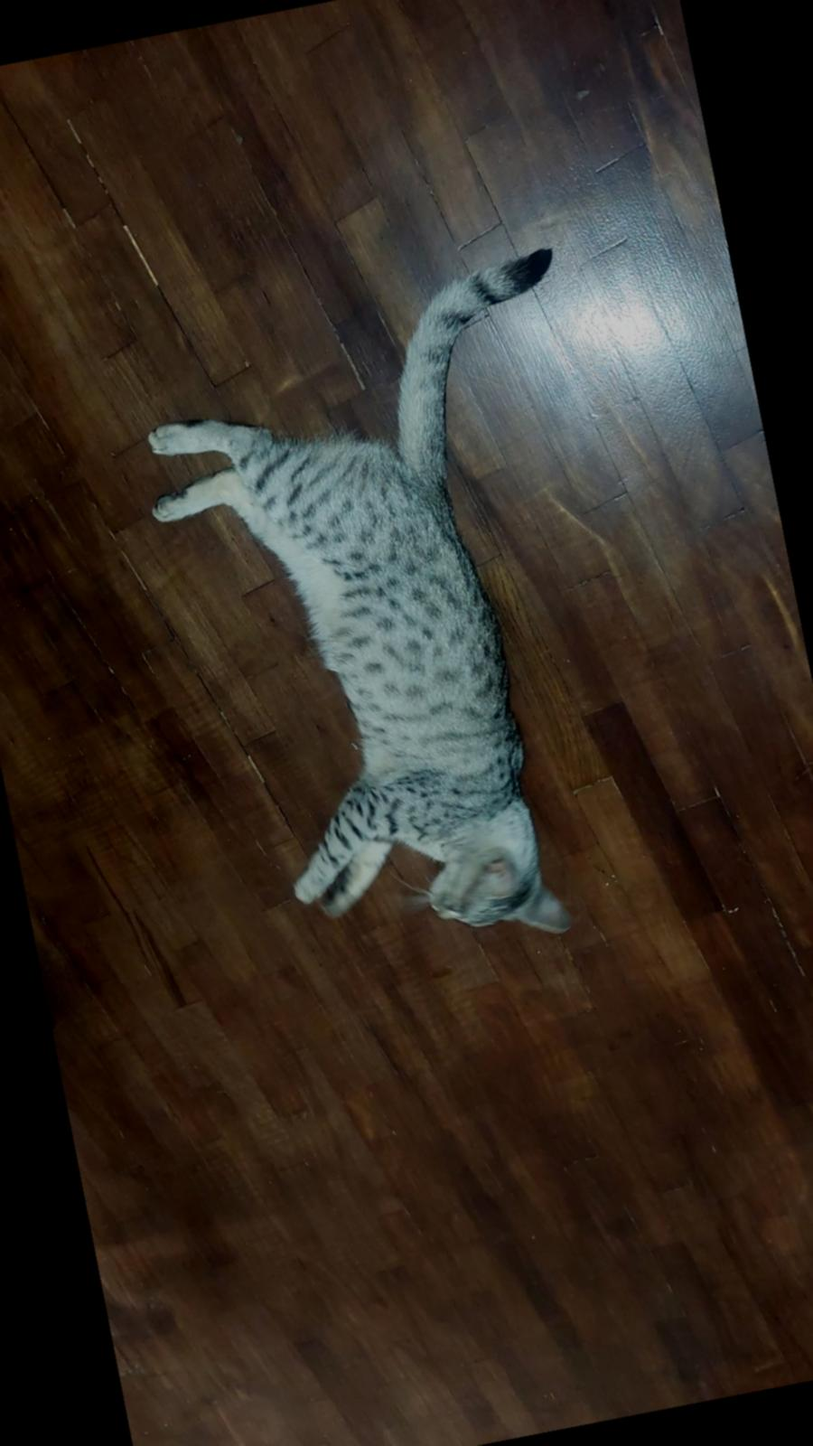macka: (113, 245, 683, 999)
